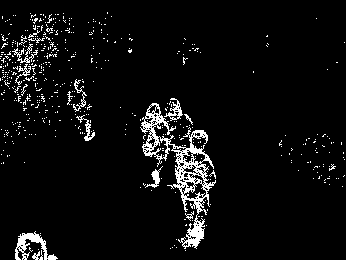person: (186, 129, 216, 247), (64, 79, 99, 143), (141, 103, 167, 187), (166, 101, 189, 150)
